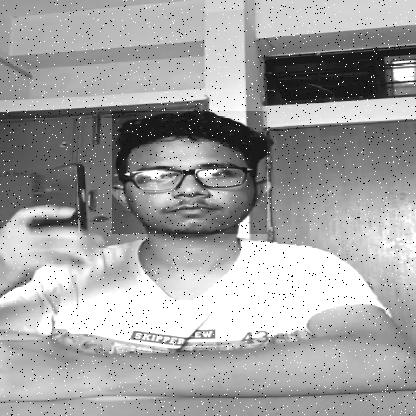Normal: (112, 111, 267, 234)
